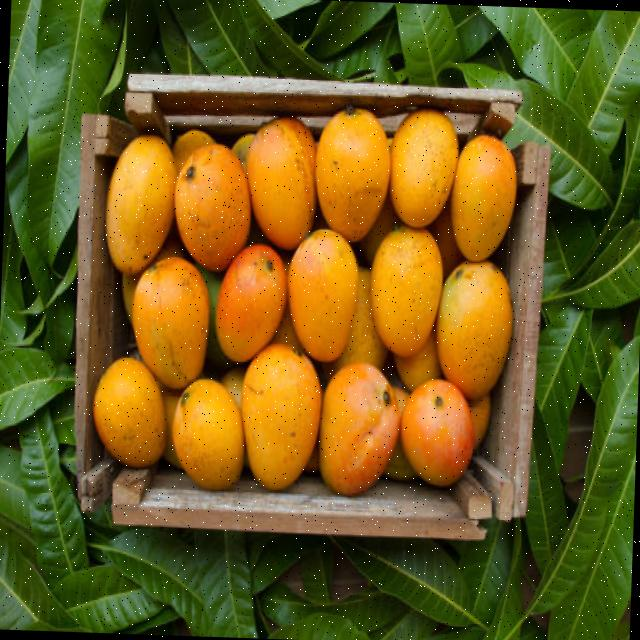mango: (240, 343, 321, 489), (319, 362, 399, 495), (436, 261, 512, 399), (315, 106, 390, 241), (132, 257, 209, 388), (105, 135, 175, 274), (370, 226, 443, 356), (245, 117, 316, 249), (287, 229, 358, 361), (175, 145, 248, 270), (450, 135, 517, 260), (388, 109, 458, 227), (215, 244, 285, 361), (93, 359, 166, 468), (400, 379, 474, 486), (172, 382, 244, 489)
